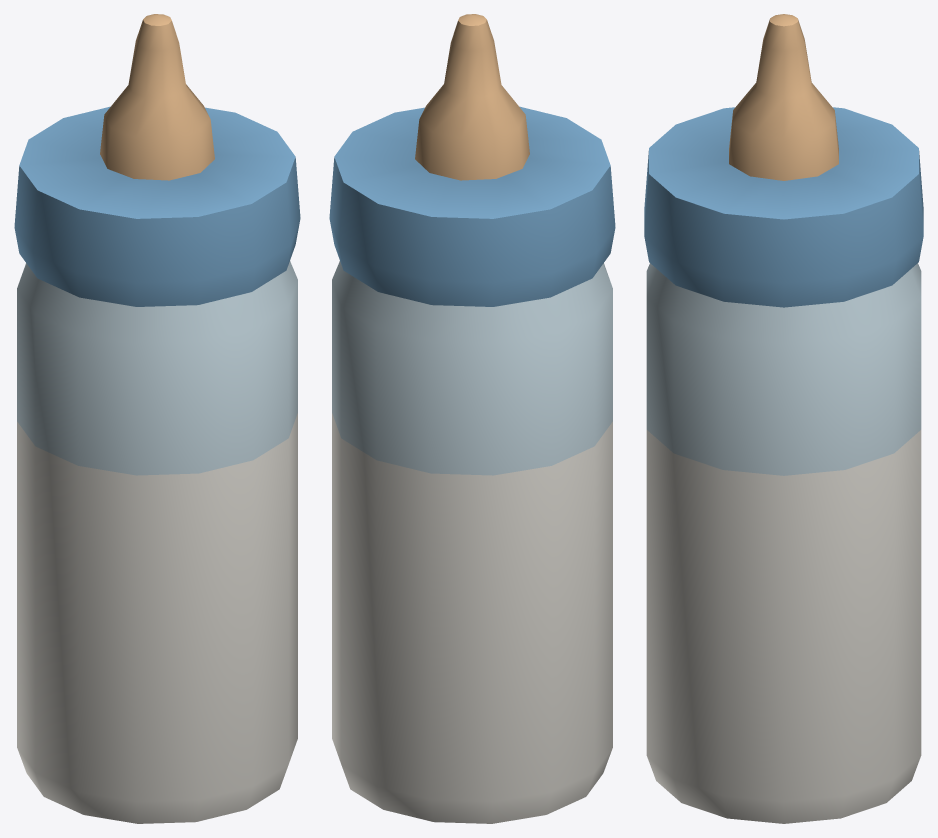
File: babyBottle.glb
The picture shows the model from 3 angles, left to right: view 1: azimuth 30°, elevation 25°; view 2: azimuth 150°, elevation 25°; view 3: azimuth 270°, elevation 25°; orthographic projection.
Visible parts, largest first — view 1: babyBottle; view 2: babyBottle; view 3: babyBottle.
Boxes of the visible parts, bbox=[...] form: babyBottle: bbox=[14, 14, 300, 823]; babyBottle: bbox=[329, 14, 615, 823]; babyBottle: bbox=[644, 14, 923, 823].
Bounding box in the file's own units: 0.059 × 0.171 × 0.0575.
